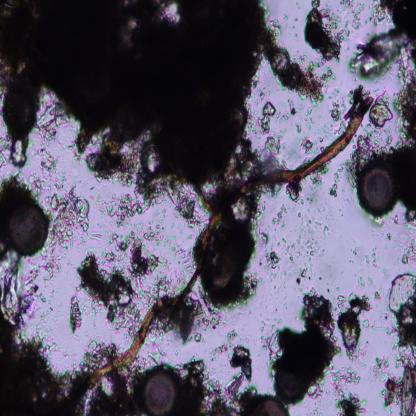Background material: (0, 1, 269, 173), (0, 316, 80, 414), (268, 295, 336, 400), (78, 223, 150, 322), (349, 1, 416, 80), (209, 212, 259, 307), (179, 358, 244, 413), (114, 182, 196, 221), (51, 184, 93, 259), (395, 70, 416, 214), (377, 350, 416, 414), (338, 291, 372, 361), (27, 142, 69, 198), (0, 258, 42, 312), (305, 3, 343, 62), (389, 269, 416, 352), (282, 61, 335, 103), (140, 248, 181, 302), (350, 127, 394, 164), (180, 294, 204, 345), (41, 286, 64, 334), (211, 326, 239, 360), (332, 386, 367, 413), (198, 301, 228, 332), (149, 312, 178, 344), (394, 229, 416, 269), (86, 336, 116, 364), (233, 340, 253, 382), (40, 104, 64, 139), (143, 218, 171, 247), (264, 124, 289, 154), (244, 96, 261, 140), (332, 365, 361, 390), (275, 236, 301, 263), (260, 100, 278, 138), (374, 92, 394, 126), (343, 0, 367, 28), (330, 164, 349, 198), (8, 138, 27, 170), (176, 245, 197, 273), (304, 237, 326, 263), (94, 195, 116, 220), (252, 328, 272, 352), (271, 204, 290, 229), (262, 249, 282, 270), (69, 299, 81, 332), (267, 21, 283, 45), (188, 213, 203, 238), (373, 314, 393, 332), (288, 98, 304, 119), (46, 259, 64, 277), (297, 264, 312, 285), (150, 350, 168, 366), (289, 184, 303, 204), (282, 24, 299, 40), (358, 276, 375, 291), (346, 240, 359, 259), (302, 103, 315, 122), (338, 23, 350, 43), (317, 223, 332, 238), (302, 136, 317, 150), (331, 105, 342, 124), (294, 48, 307, 64), (365, 250, 377, 267), (260, 232, 270, 250), (374, 291, 386, 305), (310, 172, 322, 186), (92, 228, 103, 243), (193, 334, 205, 346), (294, 122, 304, 134), (279, 112, 288, 125), (267, 272, 277, 282), (307, 221, 313, 236), (297, 211, 304, 221), (293, 16, 300, 24), (282, 14, 288, 22), (308, 197, 314, 205), (386, 233, 392, 240), (273, 284, 276, 289)
Cotton: (76, 90, 372, 410)
Diatom: (357, 159, 398, 217), (9, 198, 50, 254), (140, 365, 178, 415), (1, 86, 37, 137), (247, 392, 290, 414), (270, 46, 291, 76)
